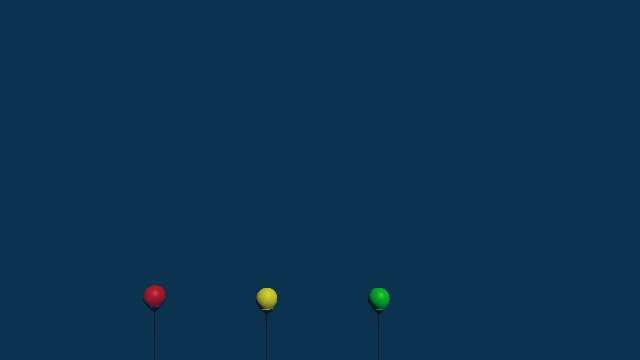buoy_green: (367, 285, 391, 315)
buoy_red: (143, 285, 166, 311)
